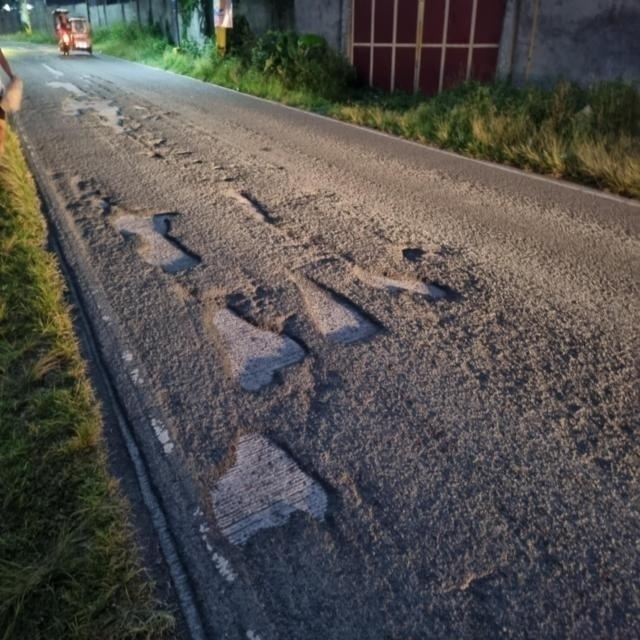pothole: (126, 202, 493, 546)
